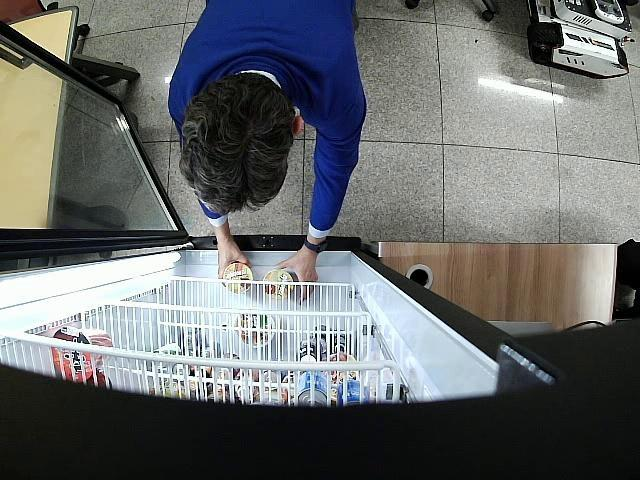04_chapagetti_S: (222, 263, 253, 294), (264, 270, 294, 300)
